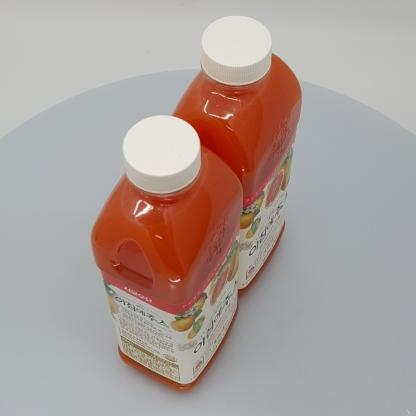-----------950ML: (92, 114, 243, 391), (172, 16, 301, 298)
